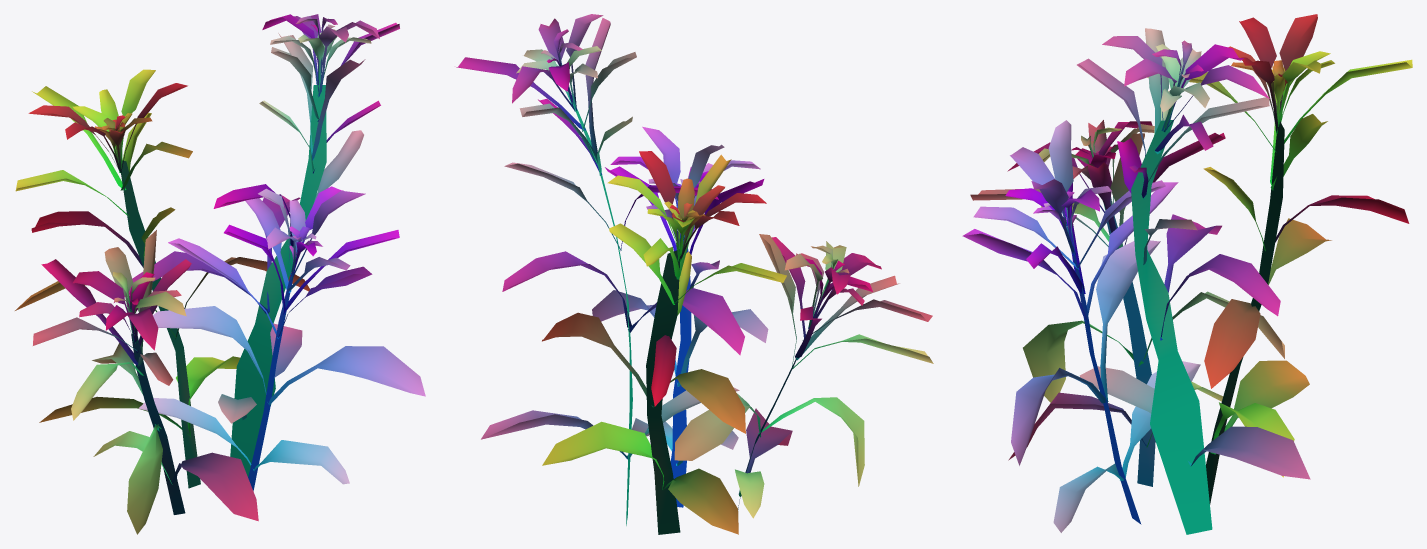
Rendered from Sage_ve3gbfoja_Mid_ve3gbfoja_VarE_LOD1.fbx.
3 renders of one model, left to right at view 1: azimuth 30°, elevation 25°; view 2: azimuth 150°, elevation 25°; view 3: azimuth 270°, elevation 25°, orthographic. The views are drawn at different scales.
Parts seen in each view (by area): view 1: _uz7h_VarE_LOD3; view 2: _uz7h_VarE_LOD3; view 3: _uz7h_VarE_LOD3.
Part boxes in pixels (box(x1,y1,x2,y2)): _uz7h_VarE_LOD3: box(15, 14, 425, 534); _uz7h_VarE_LOD3: box(456, 14, 933, 534); _uz7h_VarE_LOD3: box(962, 14, 1412, 534).
Size of the model in its own units: 54.61 by 57.54 by 43.95.
